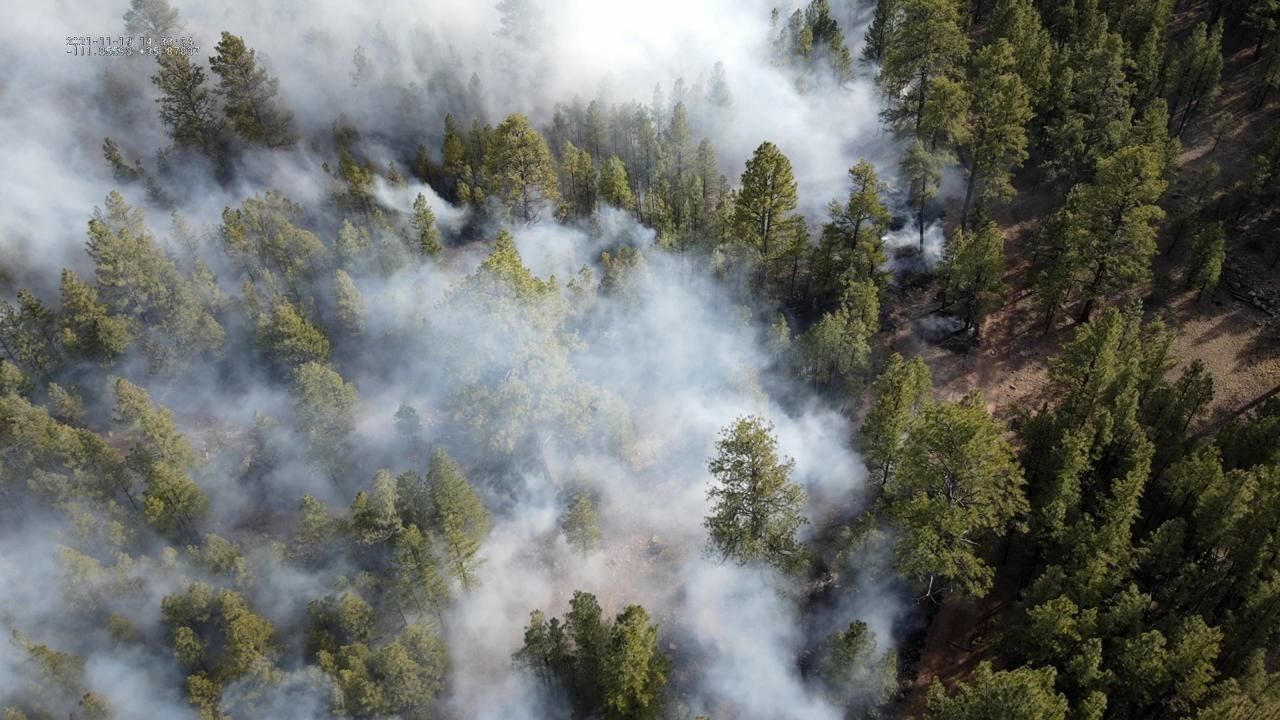smoke: (0, 0, 973, 720)
